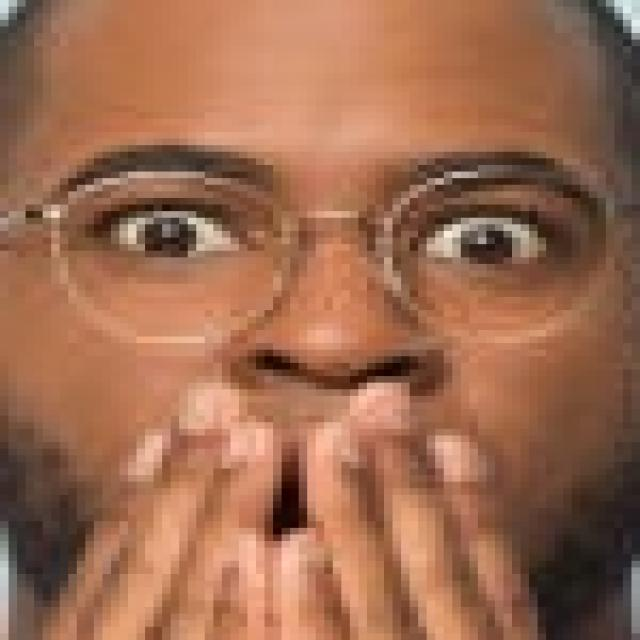Anxiety: (0, 0, 631, 633)
